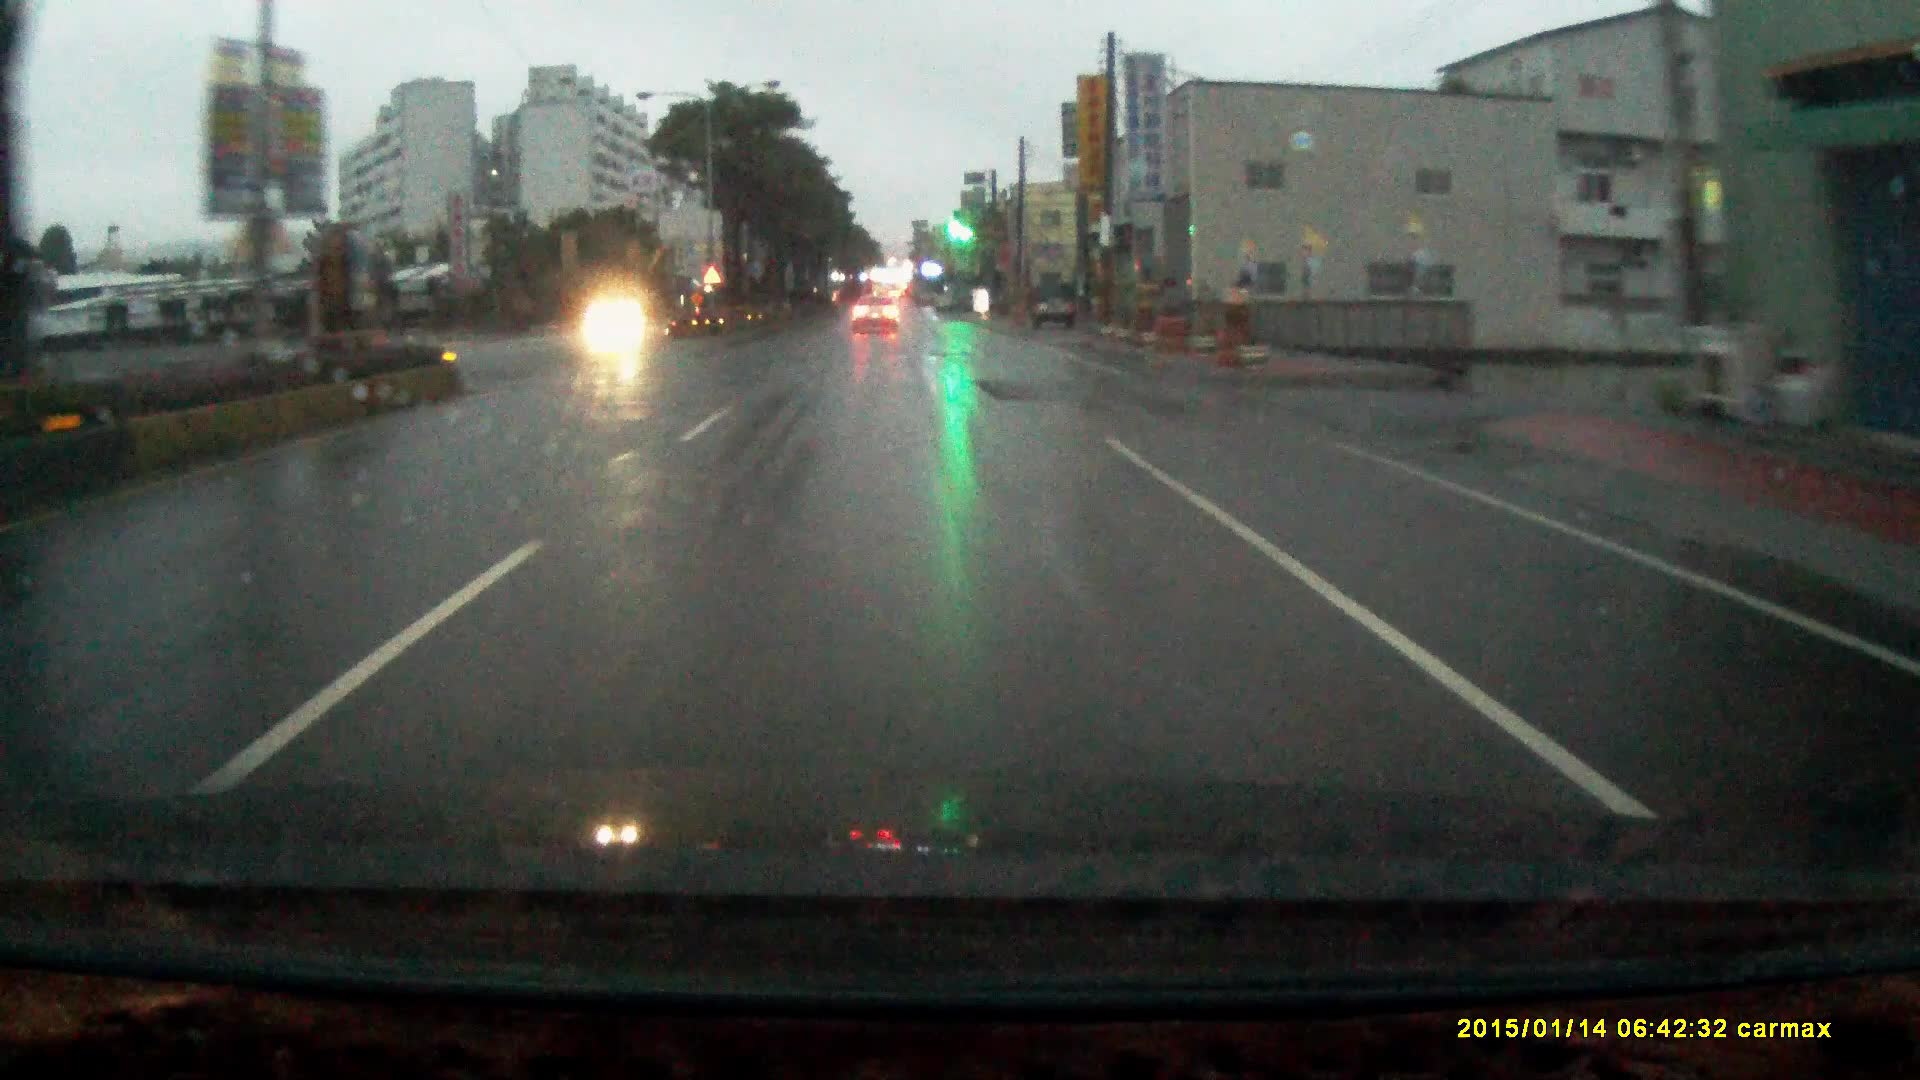vehicle: (1033, 287, 1077, 336), (848, 299, 899, 336)
